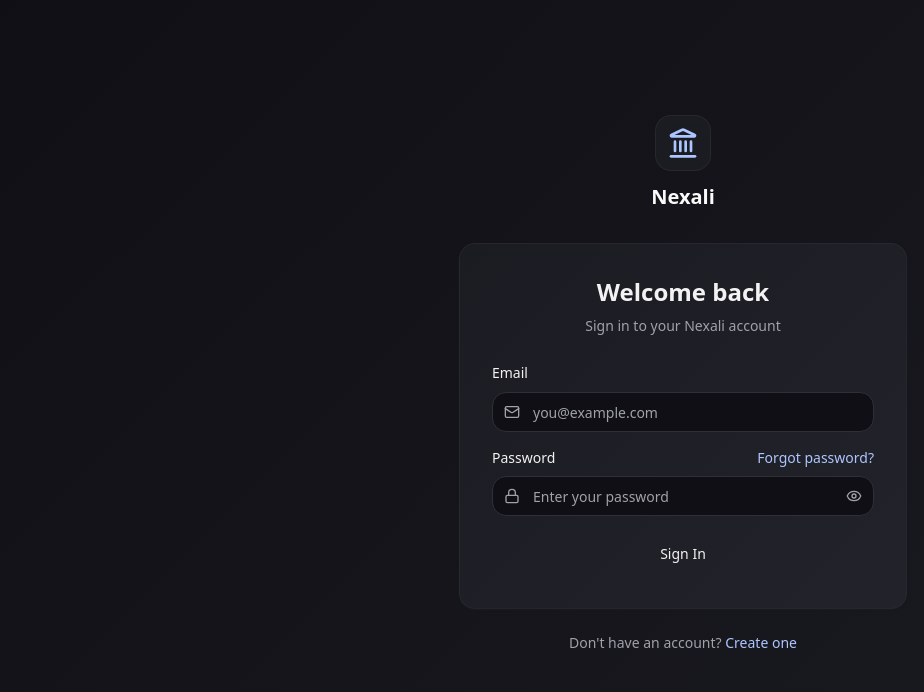
it: SignIn › shows a user-facing error on invalid credentials without exposing raw details
Type "jane@example.com" into the field labelled "Email" at point(683, 412), box [492, 392, 874, 432]
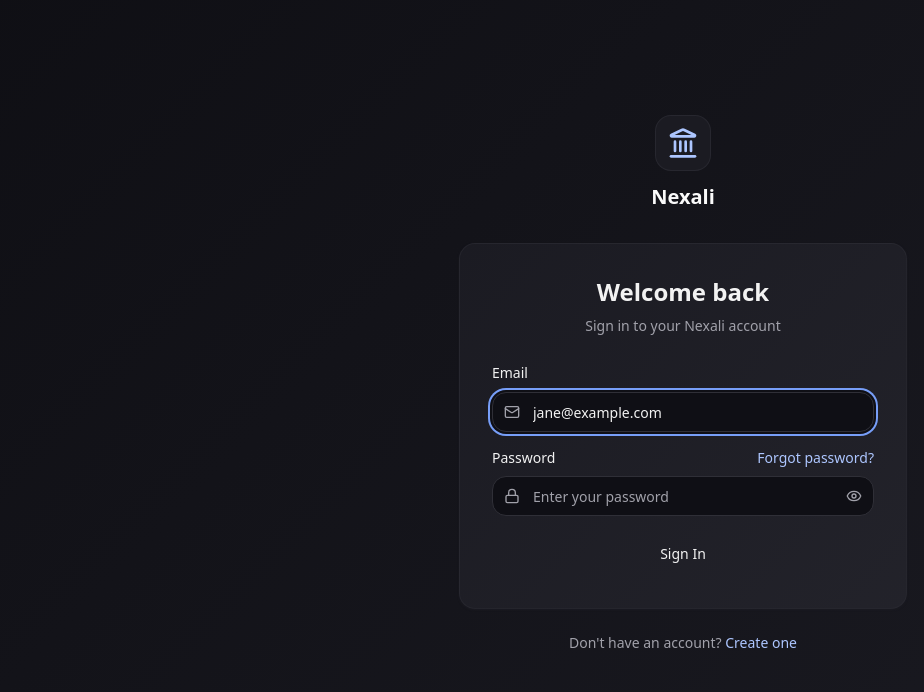
Type "wrong-password" into the password field labelled "Password" at point(683, 496), box [492, 476, 874, 516]
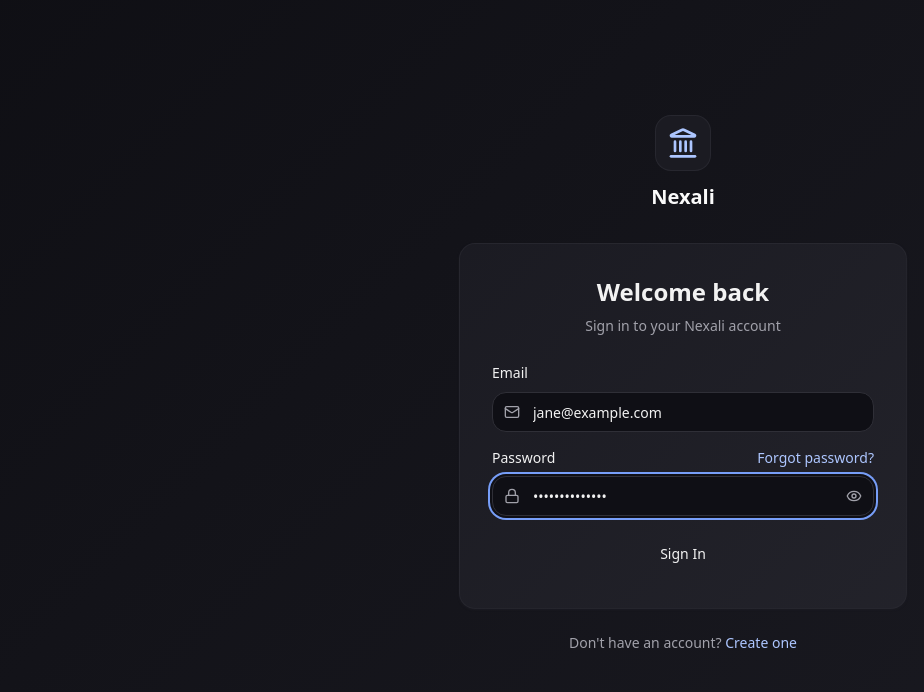
Click the button "Sign In" at point(683, 554), box [492, 532, 874, 576]
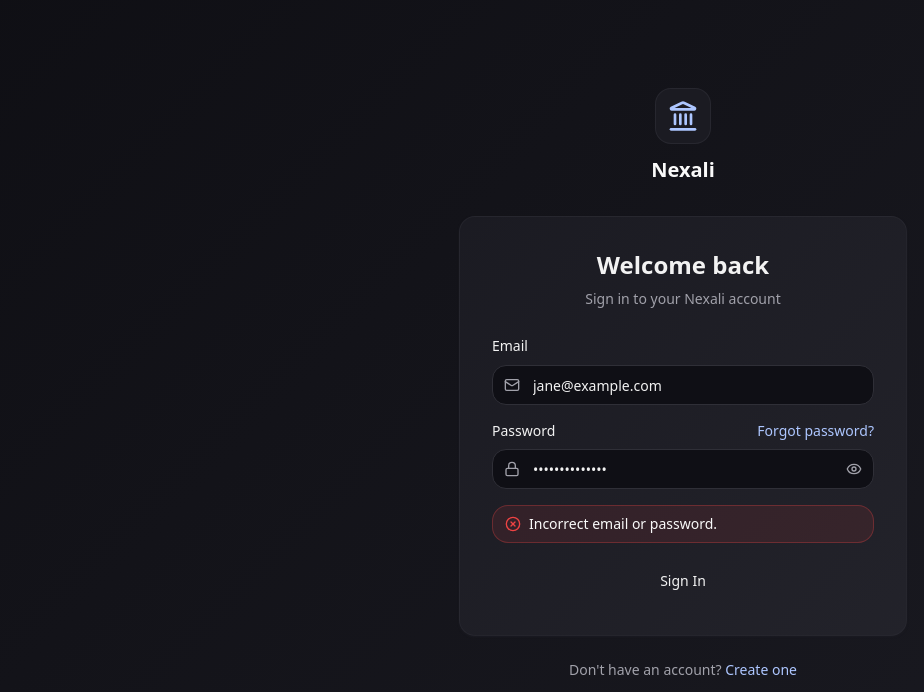
Expected: the text "Incorrect email or password." is shown, [529, 514, 717, 534]
